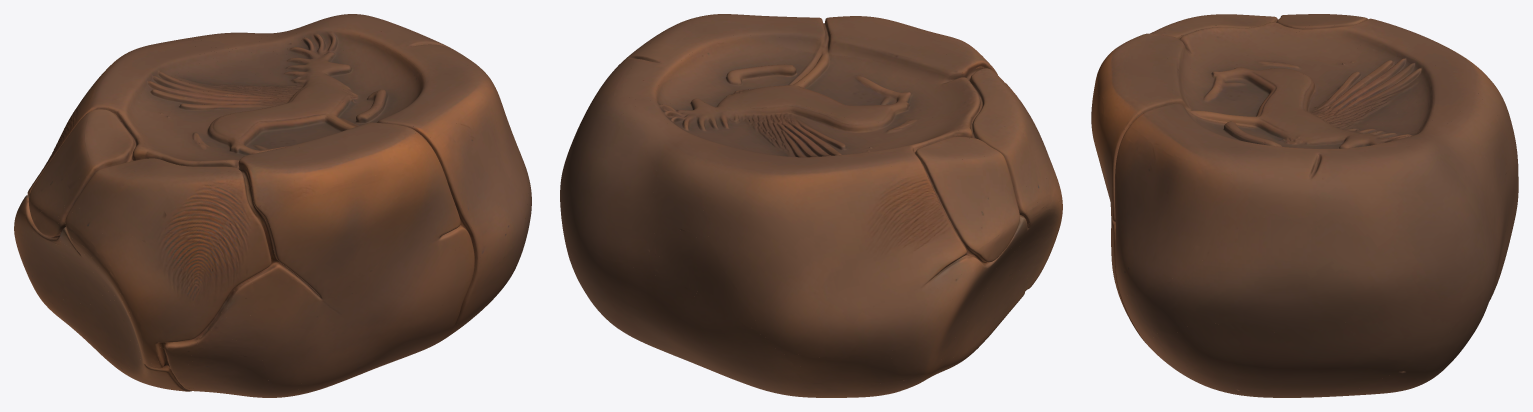
File: Bulla_opt.glb
3 renders of one model, left to right at view 1: azimuth 30°, elevation 25°; view 2: azimuth 150°, elevation 25°; view 3: azimuth 270°, elevation 25°, orthographic. The views are drawn at different scales.
Parts seen in each view (by area): view 1: material; view 2: material; view 3: material.
Boxes of the visible parts, bbox=[...] form: material: bbox=[14, 14, 531, 397]; material: bbox=[560, 14, 1062, 397]; material: bbox=[1091, 14, 1518, 397].
Bounding box in the file's own units: 1.13 × 0.6569 × 0.9579.
Materials: 1 (1 with a texture image).
